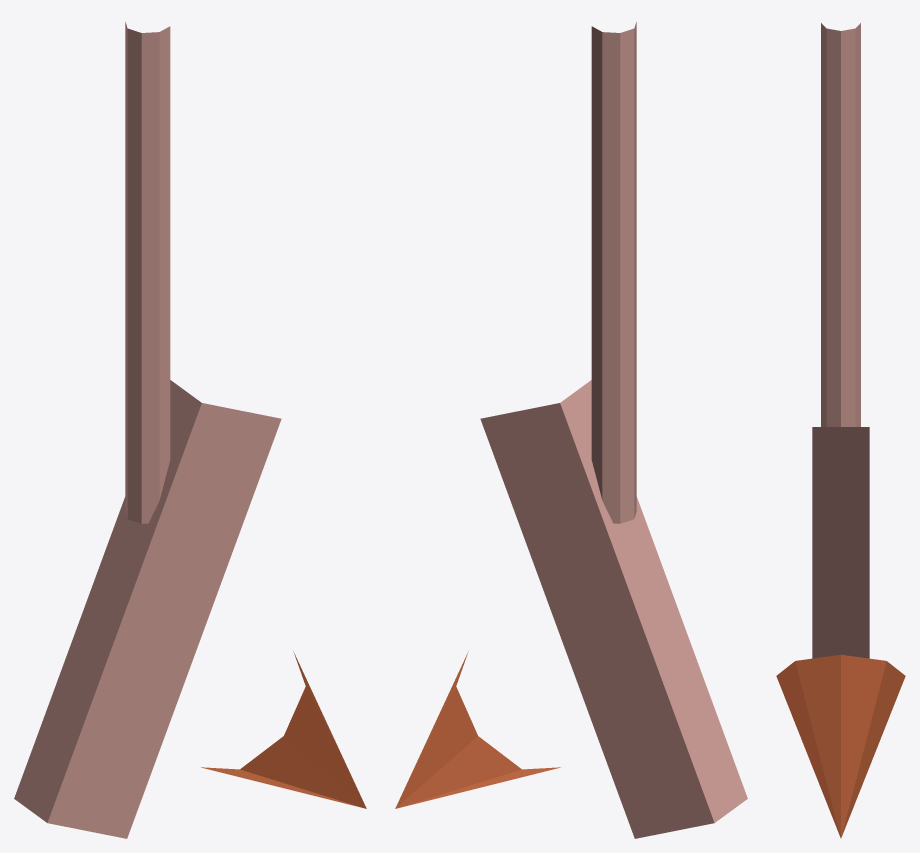
File: pudge.glb
3 renders of one model, left to right at view 1: azimuth 30°, elevation 25°; view 2: azimuth 150°, elevation 25°; view 3: azimuth 270°, elevation 25°, orthographic. The views are drawn at different scales.
Parts seen in each view (by area): view 1: pudge-hook-spine, pudge-chain, pudge-hook-tip; view 2: pudge-hook-spine, pudge-chain, pudge-hook-tip; view 3: pudge-chain, pudge-hook-spine, pudge-hook-tip.
Part boxes in pixels (left/top/right/bottom): pudge-hook-spine: left=14, top=380, right=281, bottom=838; pudge-chain: left=125, top=22, right=170, bottom=523; pudge-hook-tip: left=201, top=651, right=366, bottom=808; pudge-hook-spine: left=480, top=380, right=747, bottom=838; pudge-chain: left=591, top=22, right=636, bottom=523; pudge-hook-tip: left=395, top=651, right=560, bottom=808; pudge-chain: left=821, top=23, right=860, bottom=426; pudge-hook-spine: left=812, top=427, right=869, bottom=658; pudge-hook-tip: left=776, top=654, right=905, bottom=838.
Bounding box in the file's own units: 0.466 × 1.11 × 0.18.
